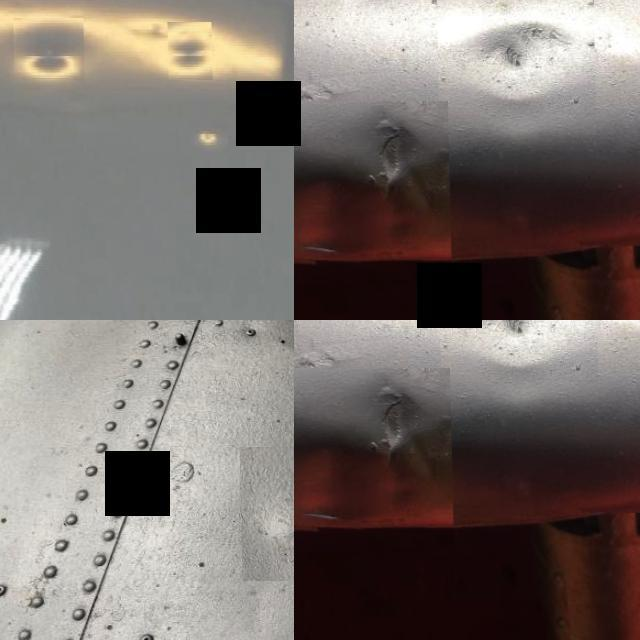Dent: (294, 368, 451, 551), (294, 101, 449, 284), (435, 0, 595, 134), (437, 320, 597, 401), (238, 447, 294, 581), (14, 18, 83, 90), (167, 23, 210, 80)
